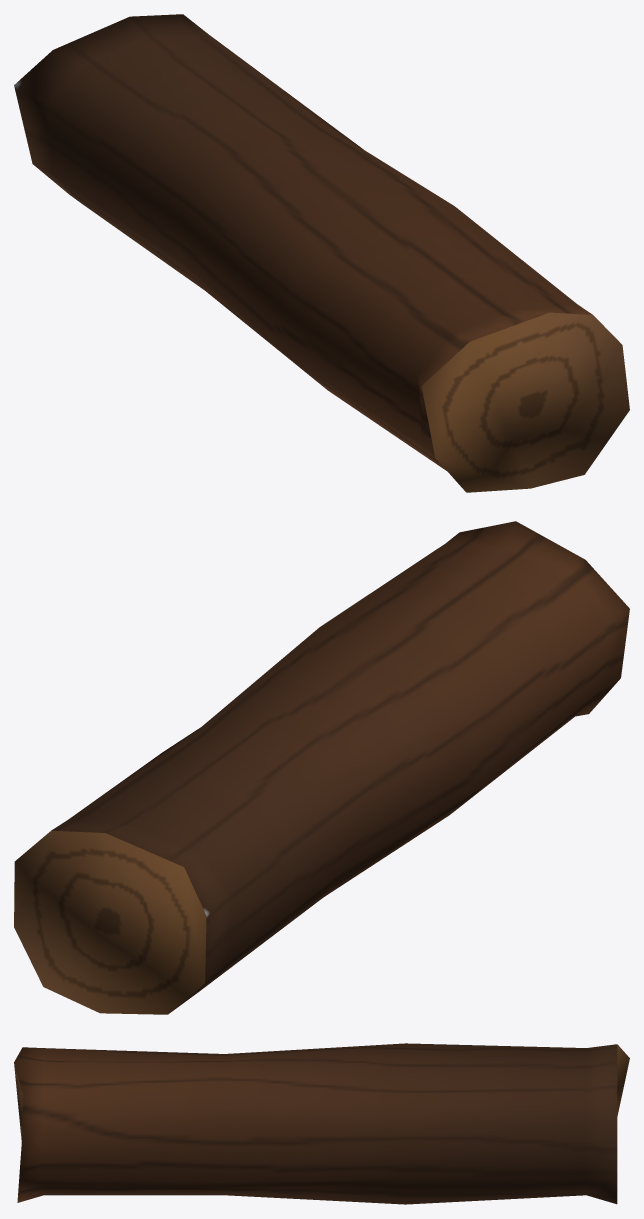
Rendered from WoodTrunk.obj.
The picture shows the model from 3 angles, top to bottom: view 1: azimuth 30°, elevation 25°; view 2: azimuth 150°, elevation 25°; view 3: azimuth 270°, elevation 25°; orthographic projection. The views are drawn at different scales.
Parts seen in each view (by area): view 1: Cylinder; view 2: Cylinder; view 3: Cylinder.
Part boxes in pixels (x1=…): Cylinder: x1=14, y1=14, x2=629, y2=492; Cylinder: x1=14, y1=521, x2=629, y2=1014; Cylinder: x1=14, y1=1043, x2=629, y2=1204.
Bounding box in the file's own units: 1.91 × 1.63 × 6.73.
